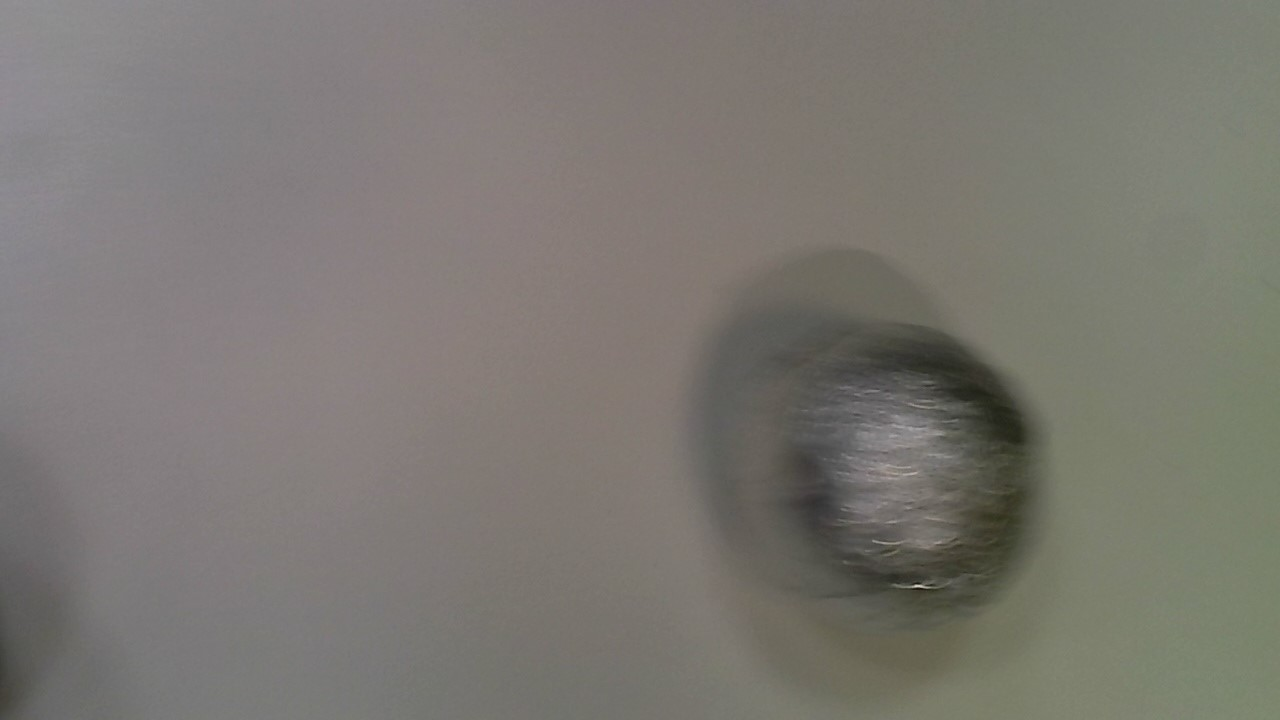silver_ball: (729, 311, 1045, 649)
